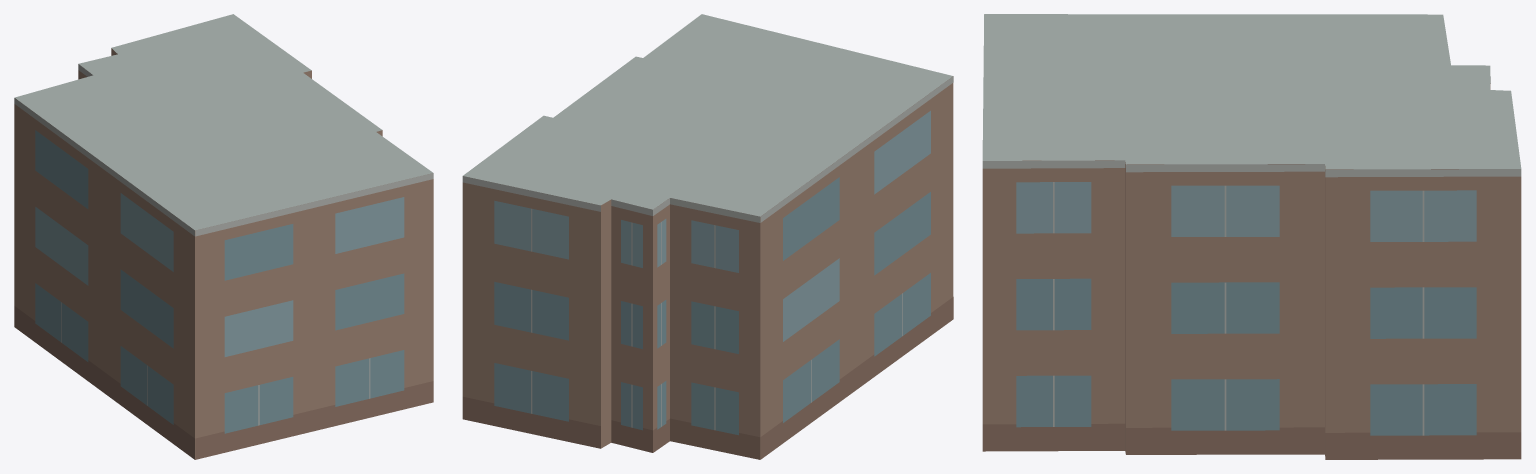
The model's file is survey-upis-33005898.glb.
The picture shows the model from 3 angles, left to right: view 1: azimuth 30°, elevation 25°; view 2: azimuth 150°, elevation 25°; view 3: azimuth 270°, elevation 25°; orthographic projection. The views are drawn at different scales.
Visible parts, largest first — view 1: survey-upis-33005898.tmp; view 2: survey-upis-33005898.tmp; view 3: survey-upis-33005898.tmp.
Boxes of the visible parts, left/top/right/bottom form: survey-upis-33005898.tmp: left=14, top=14, right=433, bottom=459; survey-upis-33005898.tmp: left=462, top=14, right=953, bottom=459; survey-upis-33005898.tmp: left=982, top=14, right=1521, bottom=459.
Size of the model in its own units: 10.51 by 9.15 by 15.4.
